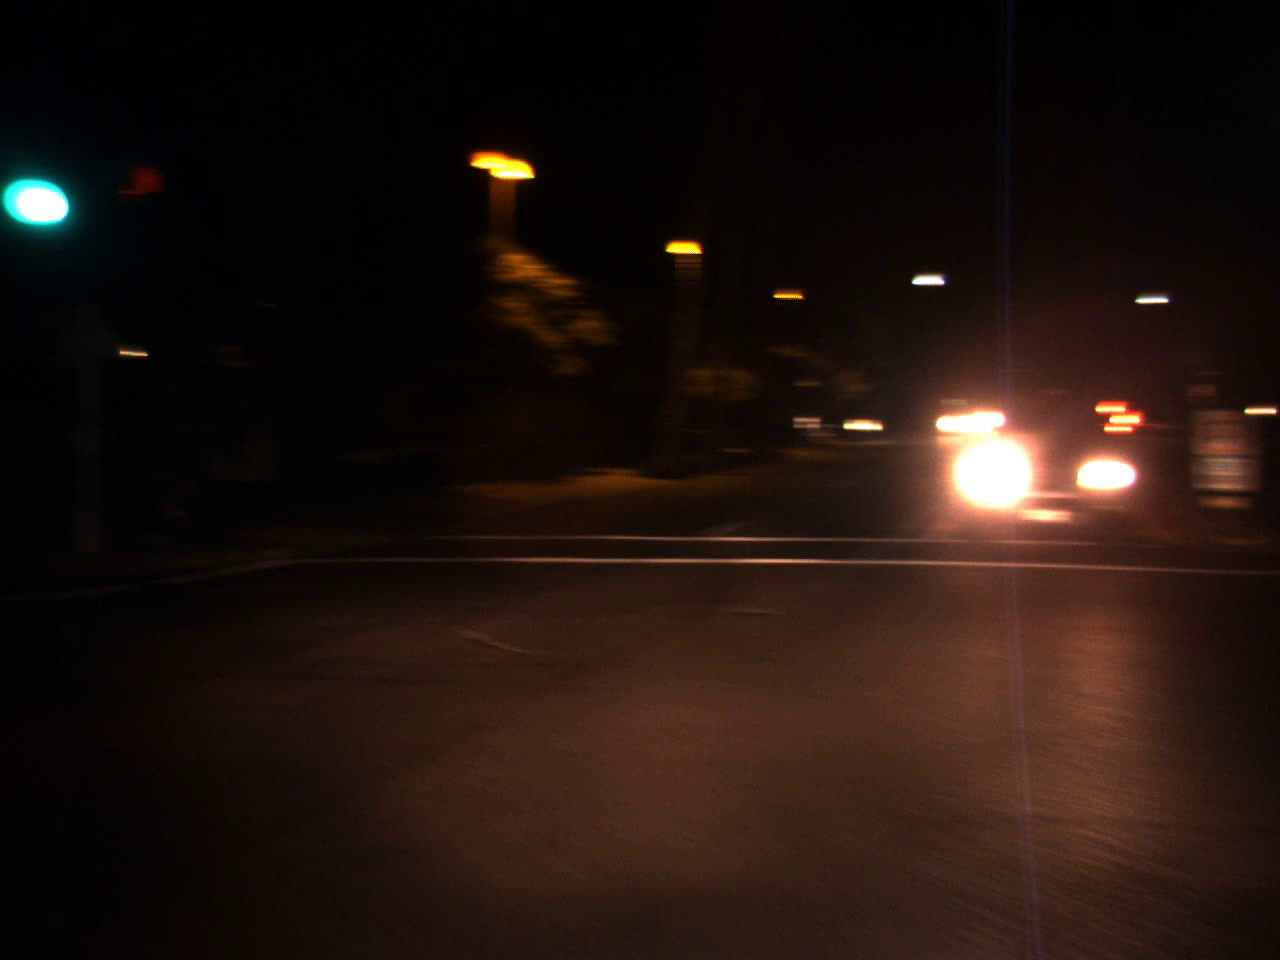go: (1, 138, 76, 234)
